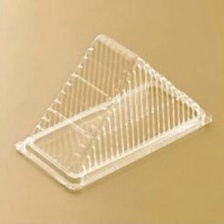plastic_box: (8, 27, 216, 198)
